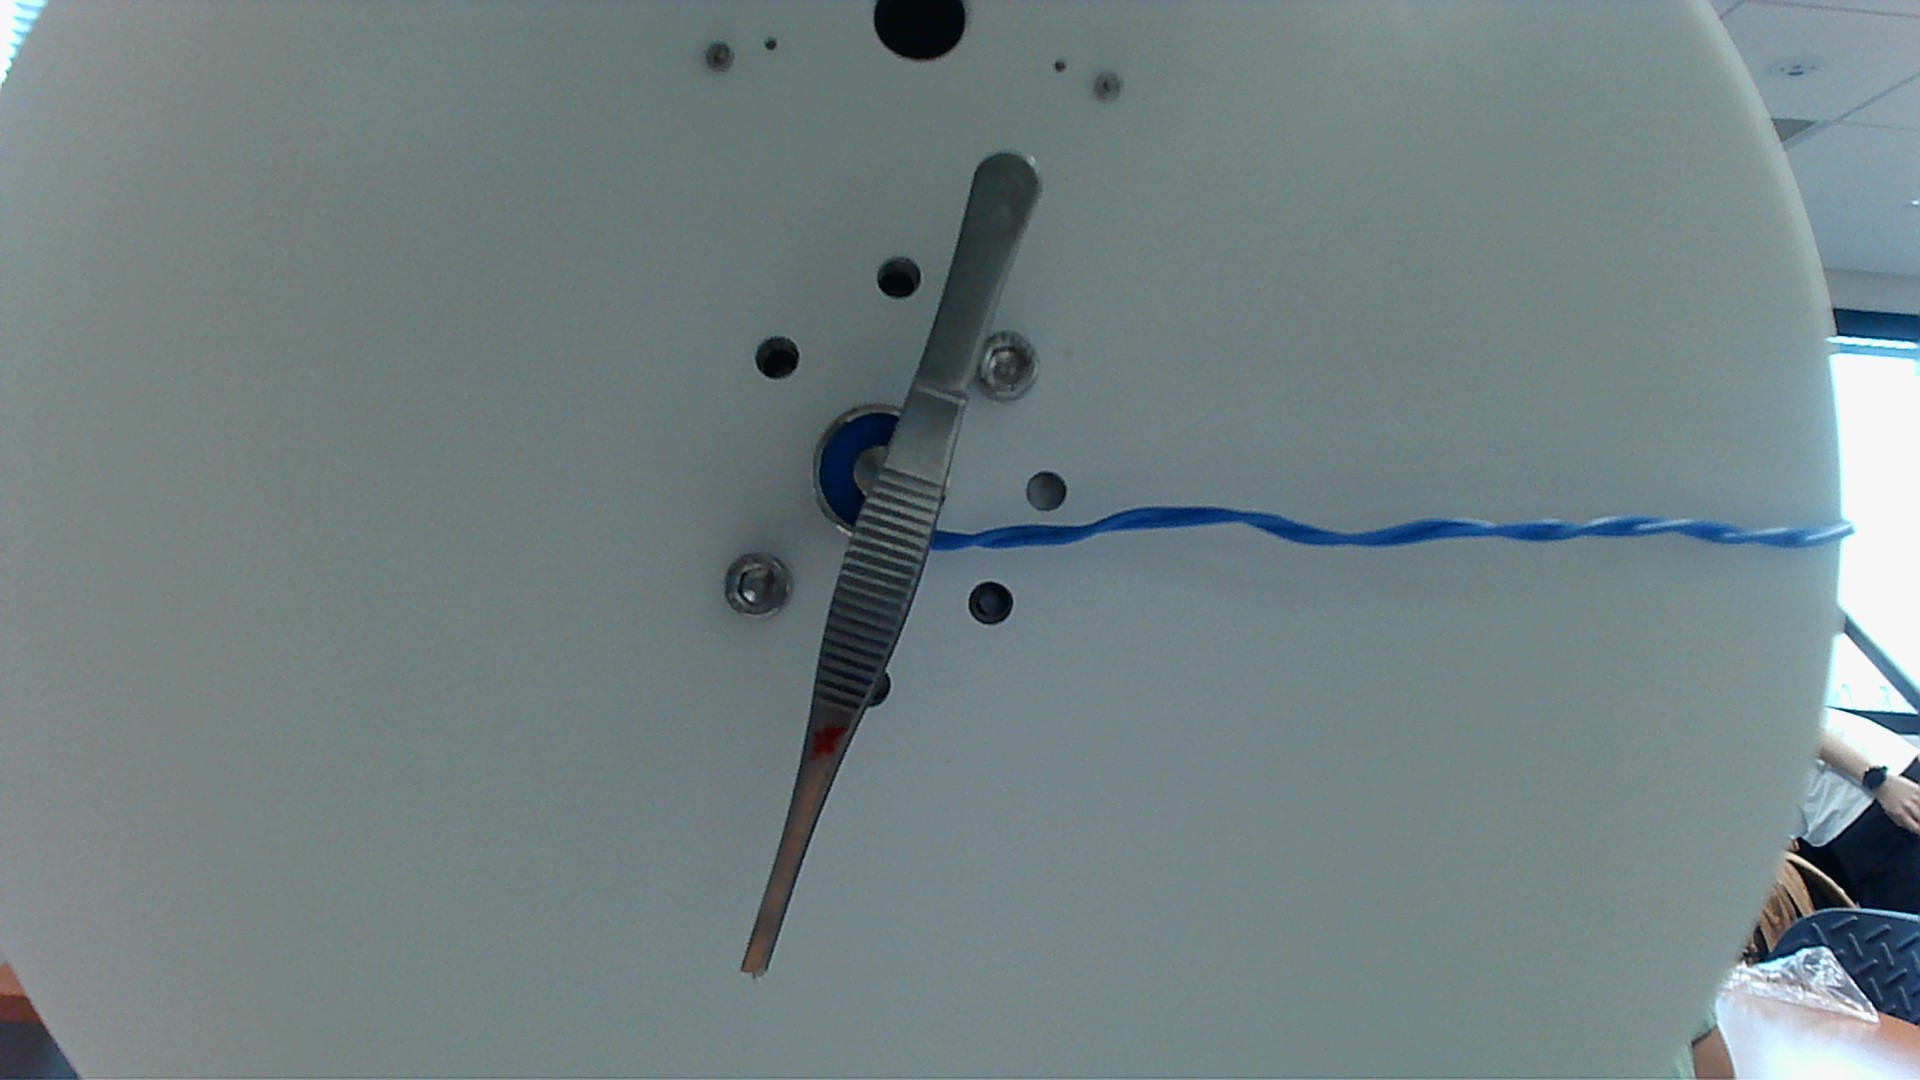Stain: (802, 717, 859, 764)
